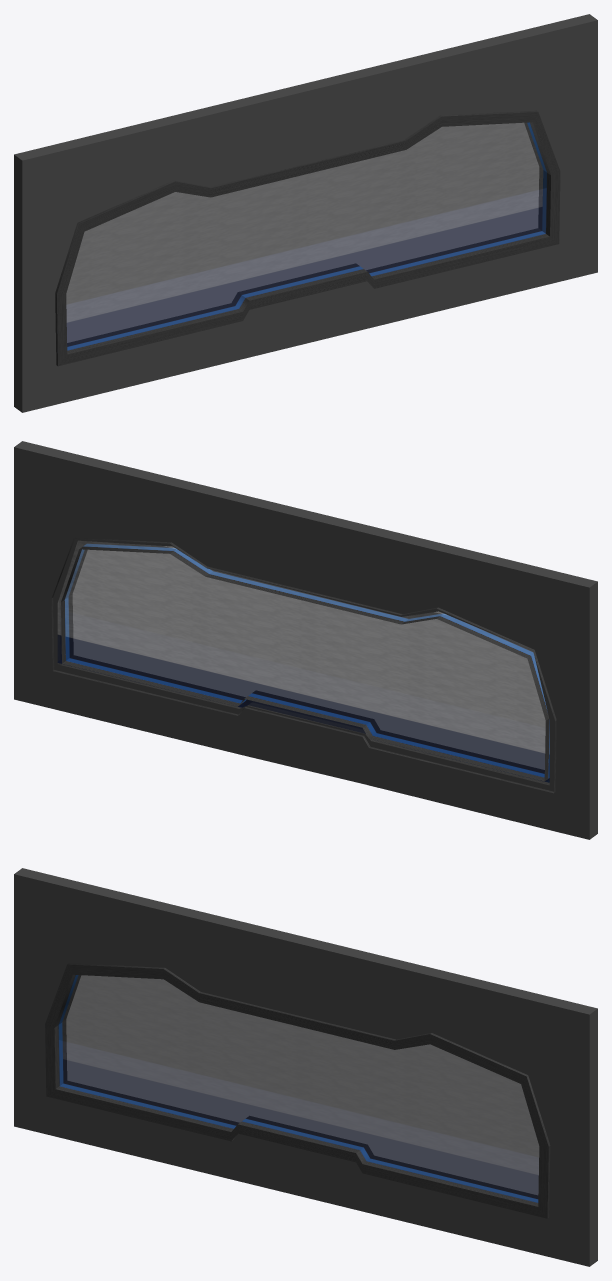
The model's file is windowbig.fbx.
3 renders of one model, top to bottom at view 1: azimuth 30°, elevation 25°; view 2: azimuth 150°, elevation 25°; view 3: azimuth 330°, elevation 25°, orthographic.
Parts seen in each view (by area): view 1: pCube5, pCube6, pCylinder1; view 2: pCube5, pCube6, pCylinder1; view 3: pCube5, pCube6, pCylinder1.
Boxes of the visible parts, x1,y1,x2,y2 form: pCube5: (14, 14, 597, 412); pCube6: (66, 122, 546, 350); pCylinder1: (55, 110, 560, 366); pCube5: (14, 441, 597, 839); pCube6: (57, 540, 549, 782); pCylinder1: (51, 537, 556, 793); pCube5: (14, 868, 597, 1266); pCube6: (58, 975, 539, 1202); pCylinder1: (45, 963, 550, 1218).
Bounding box in the file's own units: 39.56 × 16.57 × 1.4.
